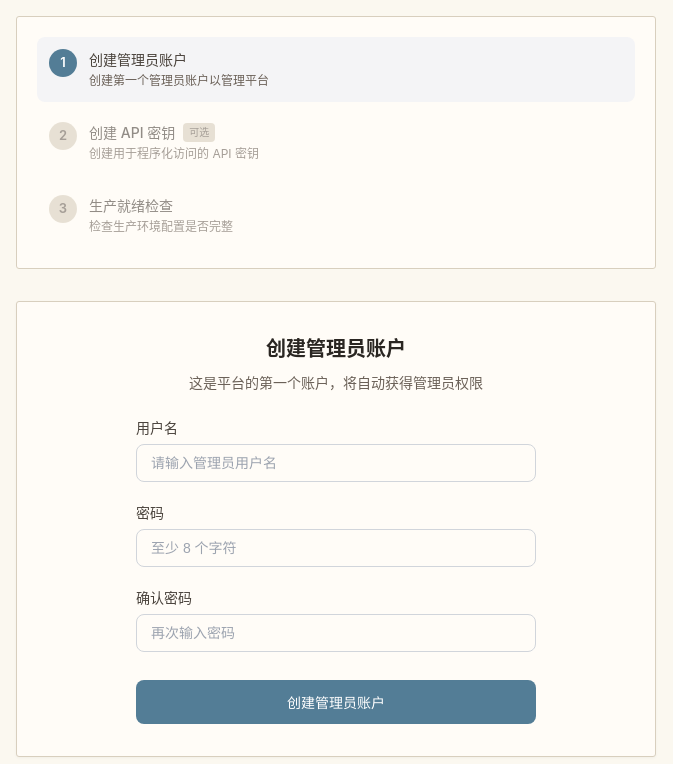
GA: Setup Flow › shows error when username is empty
(page scrolled)
Click the button with test id "admin-create-submit". click: (336, 702)
box: x1=136 y1=680 x2=536 y2=724
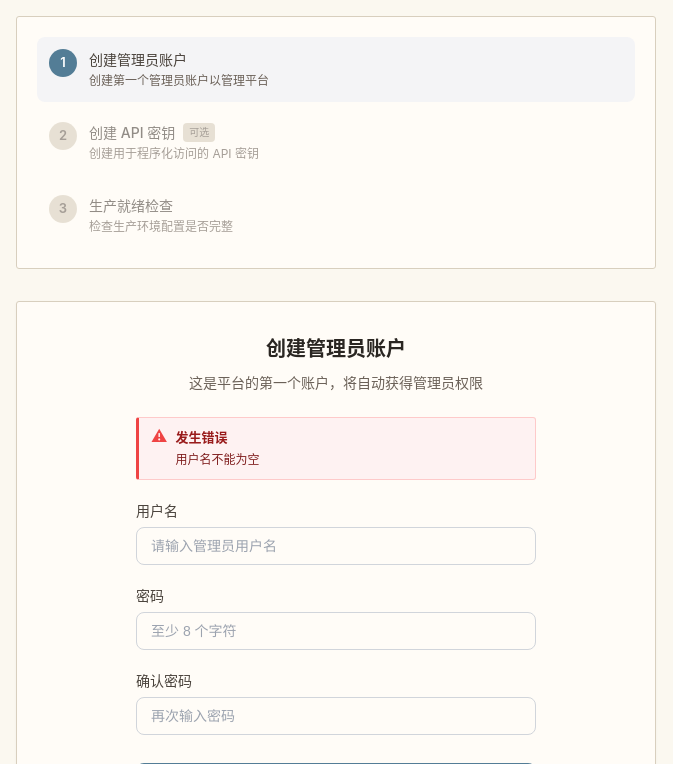
Now the message with test id "setup-admin-error" shows "用户名不能为空", box x1=175 y1=452 x2=259 y2=467
